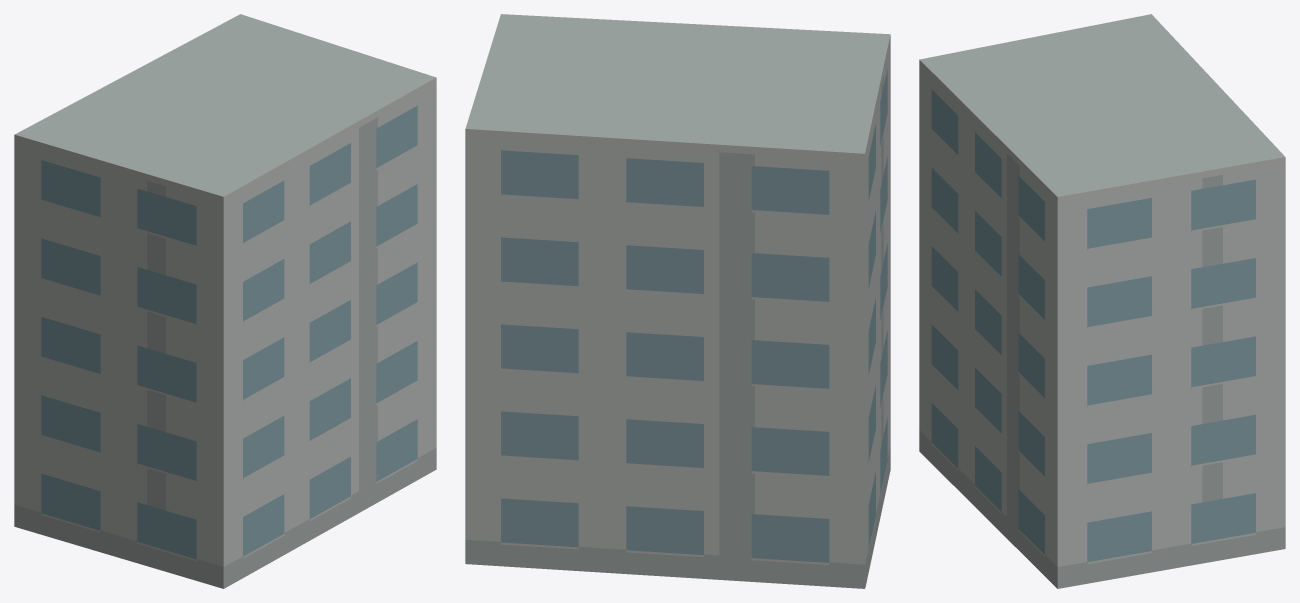
File: survey-upis-32730152.glb
3 renders of one model, left to right at view 1: azimuth 30°, elevation 25°; view 2: azimuth 150°, elevation 25°; view 3: azimuth 270°, elevation 25°, orthographic. The views are drawn at different scales.
Visible parts, largest first — view 1: survey-upis-32730152.tmp; view 2: survey-upis-32730152.tmp; view 3: survey-upis-32730152.tmp.
Part boxes in pixels (<box>): survey-upis-32730152.tmp: <box>14,14,436,588</box>; survey-upis-32730152.tmp: <box>465,14,890,588</box>; survey-upis-32730152.tmp: <box>919,14,1285,588</box>.
Bounding box in the file's own units: 14.13 × 14.1 × 11.95.
